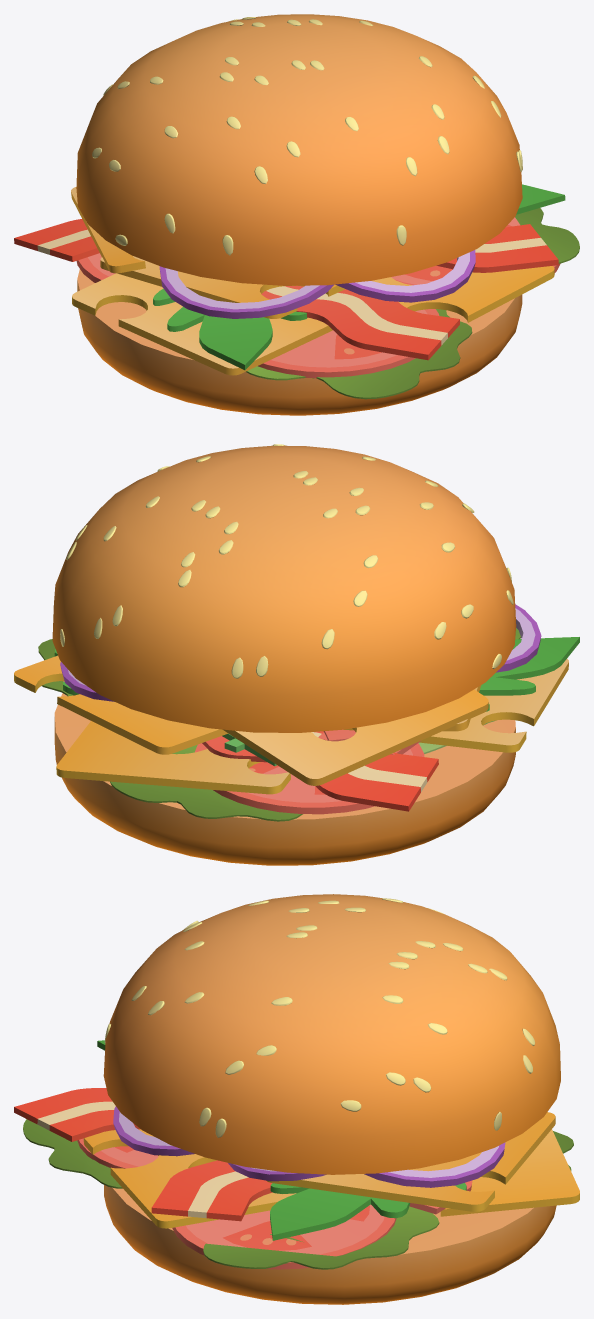
3 views of the same model, one above another, from view 1: azimuth 30°, elevation 25°; view 2: azimuth 150°, elevation 25°; view 3: azimuth 270°, elevation 25° (orthographic). The views are drawn at different scales.
Visible parts, largest first — view 1: Burger_Wrapped_W_Blue_Changed; view 2: Burger_Wrapped_W_Blue_Changed; view 3: Burger_Wrapped_W_Blue_Changed.
Part boxes in pixels (x1,y1,x2,y2): Burger_Wrapped_W_Blue_Changed: (14, 14, 579, 415); Burger_Wrapped_W_Blue_Changed: (14, 444, 579, 865); Burger_Wrapped_W_Blue_Changed: (14, 894, 579, 1304).
Bounding box in the file's own units: 0.0966 × 0.0563 × 0.1.
Materials: 1 (1 with a texture image).
